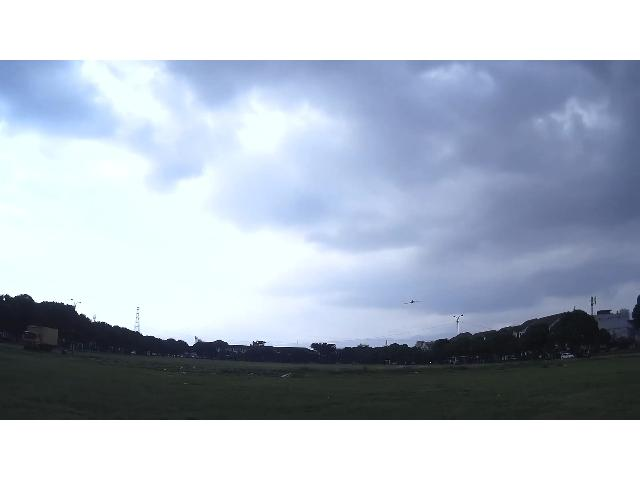Anti-Drone: (400, 302, 422, 304)
